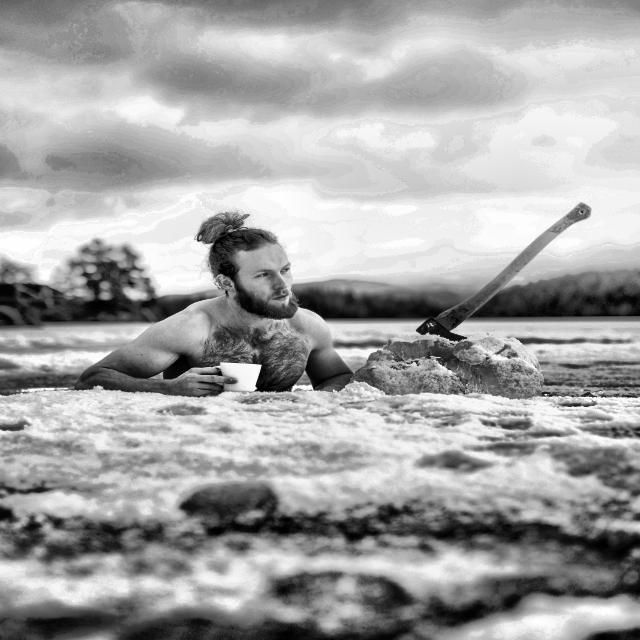kapak: (368, 183, 605, 374)
